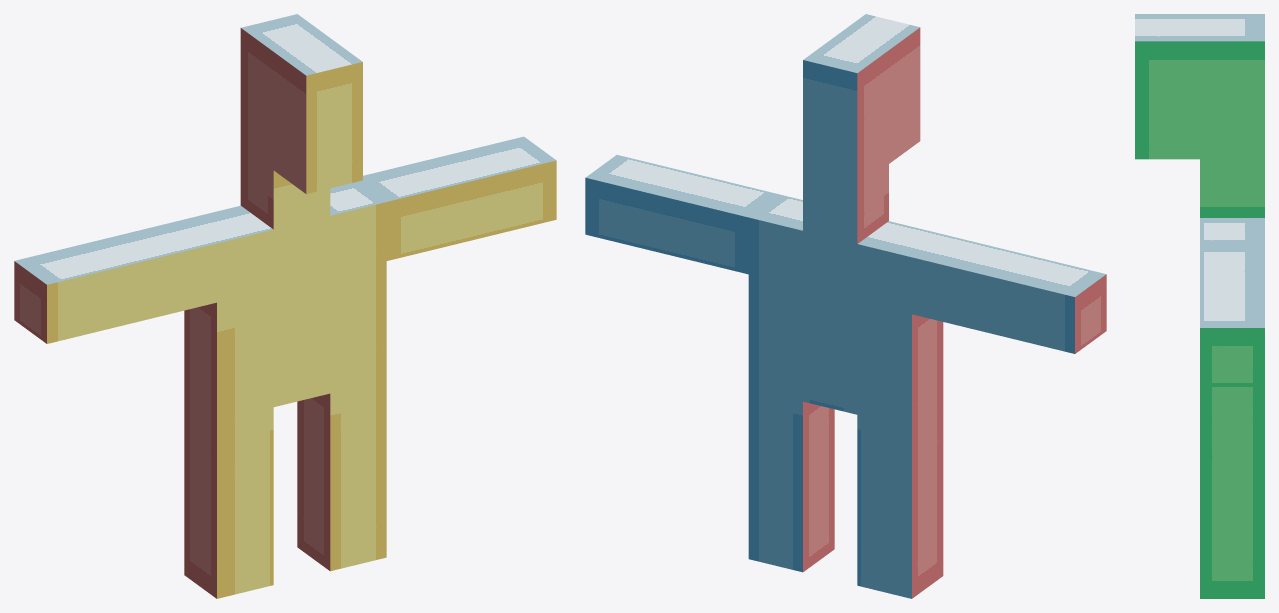
File: test_perso.fbx
3 renders of one model, left to right at view 1: azimuth 30°, elevation 25°; view 2: azimuth 150°, elevation 25°; view 3: azimuth 270°, elevation 25°, orthographic. The views are drawn at different scales.
Visible parts, largest first — view 1: bone, head, right_arm, right_leg, left_arm, left_leg; view 2: bone, head, right_arm, right_leg, left_arm, left_leg; view 3: head, left_leg, left_arm, bone.
Part boxes in pixels (x1=…): bone: x1=184, y1=181, x2=386, y2=420; head: x1=240, y1=14, x2=362, y2=229; right_arm: x1=14, y1=219, x2=216, y2=343; right_leg: x1=184, y1=397, x2=273, y2=598; left_arm: x1=359, y1=136, x2=556, y2=260; left_leg: x1=297, y1=380, x2=386, y2=571; bone: x1=748, y1=194, x2=943, y2=427; head: x1=803, y1=14, x2=920, y2=243; right_arm: x1=912, y1=234, x2=1106, y2=353; right_leg: x1=857, y1=405, x2=943, y2=598; left_arm: x1=585, y1=155, x2=779, y2=274; left_leg: x1=748, y1=388, x2=834, y2=572; head: x1=1135, y1=14, x2=1264, y2=217; left_leg: x1=1200, y1=422, x2=1264, y2=598; left_arm: x1=1200, y1=245, x2=1264, y2=386; bone: x1=1200, y1=218, x2=1264, y2=422.
Size of the model in its own units: 90 by 90 by 20.
1 material, 1 textured.
